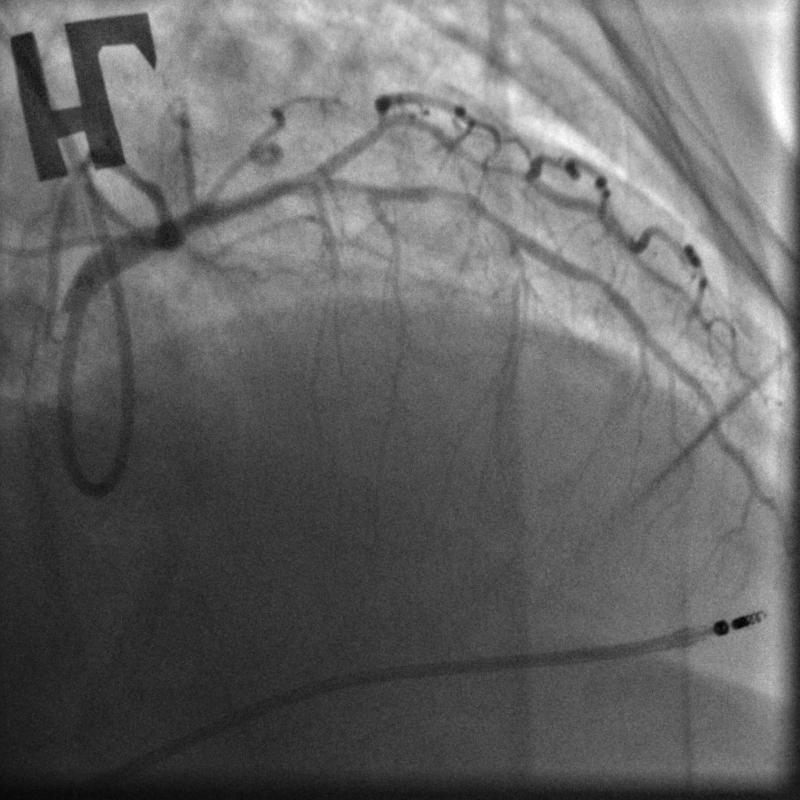Stenosis: (422, 178, 493, 220)
